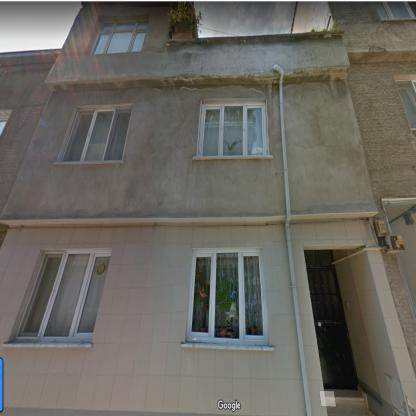door: (308, 268, 358, 388)
window: (16, 251, 111, 339), (188, 250, 268, 344), (61, 107, 132, 161), (199, 102, 267, 156), (90, 21, 148, 53), (396, 80, 415, 128), (376, 2, 415, 18), (305, 250, 332, 266)
